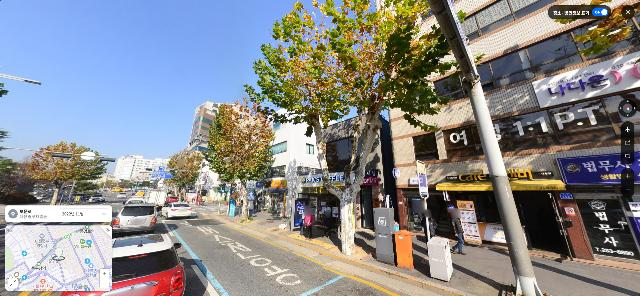other: (244, 0, 475, 255), (204, 97, 278, 222), (24, 140, 108, 205), (165, 149, 207, 203)
